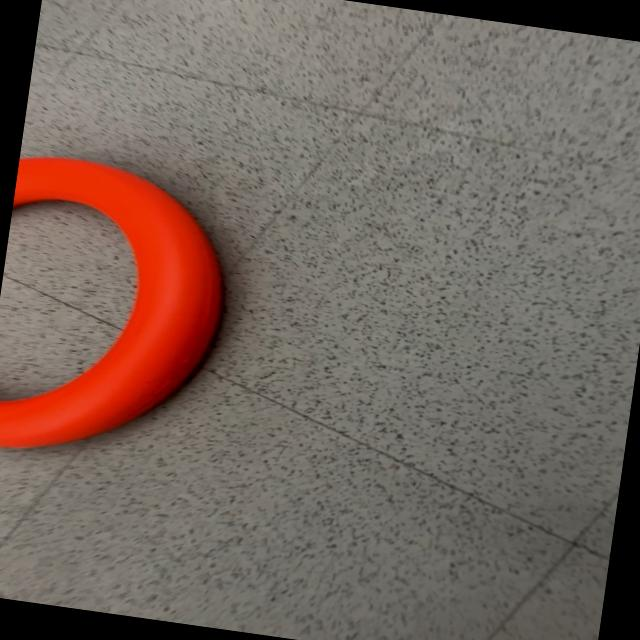note: (0, 150, 242, 477)
